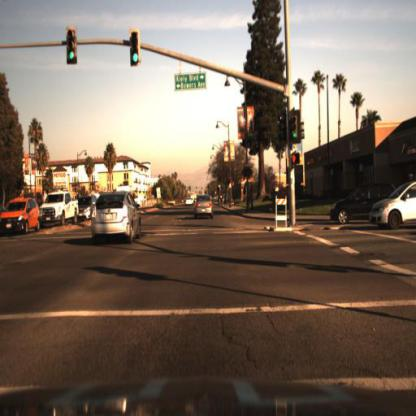car: (330, 180, 397, 226), (90, 190, 144, 246), (40, 190, 81, 231), (2, 198, 41, 239), (77, 191, 101, 225), (193, 192, 218, 224), (185, 196, 197, 210)
pedestrian: (249, 182, 258, 215)
trafficLight-Green: (64, 24, 80, 67), (129, 29, 143, 67), (291, 110, 300, 143)
